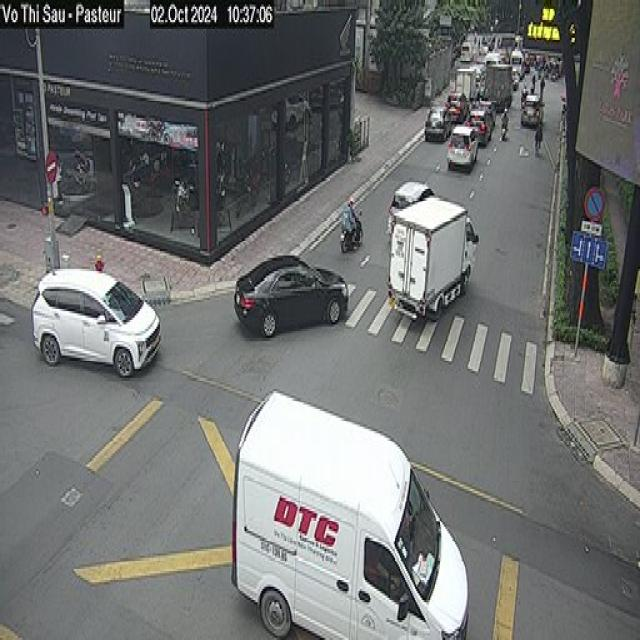car: (230, 389, 469, 638), (30, 266, 160, 378), (232, 253, 348, 338), (445, 125, 477, 171)
truck: (385, 189, 479, 320)
